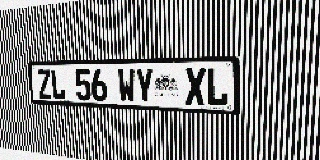5: (75, 69, 92, 101)
6: (90, 69, 107, 101)
L: (206, 68, 229, 106), (50, 69, 66, 100)
W: (118, 69, 136, 103)
X: (185, 68, 206, 106)
Y: (135, 68, 154, 103)
Z: (37, 70, 52, 99)
